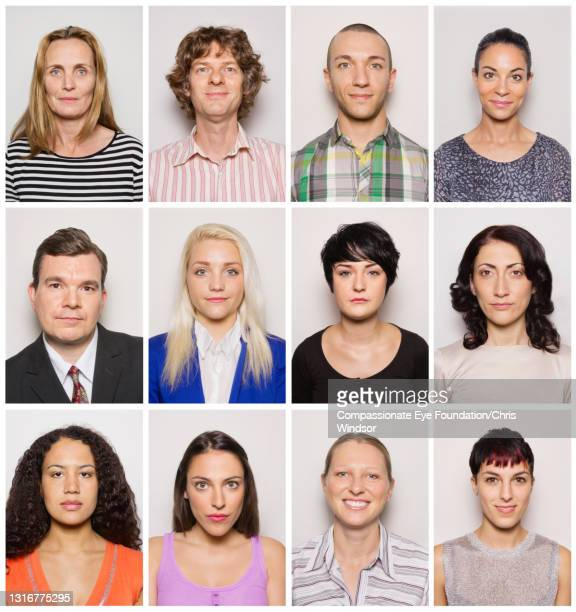men: (312, 17, 411, 149), (25, 221, 114, 362), (169, 21, 272, 141)
women: (172, 211, 271, 380), (18, 422, 129, 554), (456, 221, 556, 359), (164, 426, 264, 560), (448, 434, 553, 549), (302, 220, 407, 332), (452, 27, 543, 134), (312, 430, 399, 537), (22, 26, 110, 129)
